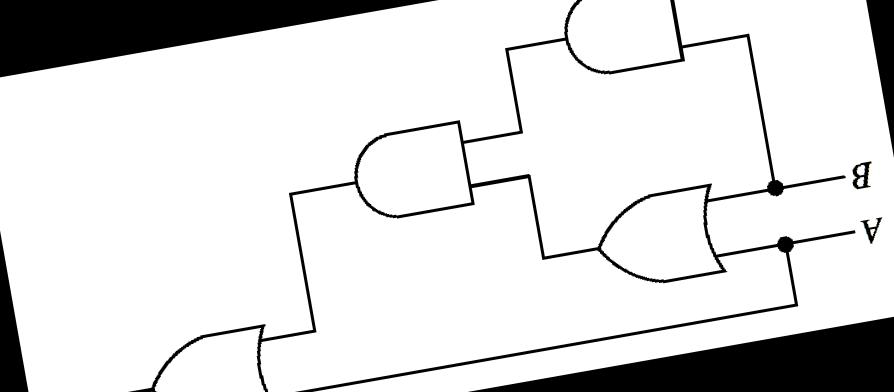and: (338, 110, 486, 232), (545, 0, 694, 90)
or: (580, 173, 736, 300), (133, 312, 287, 392)
